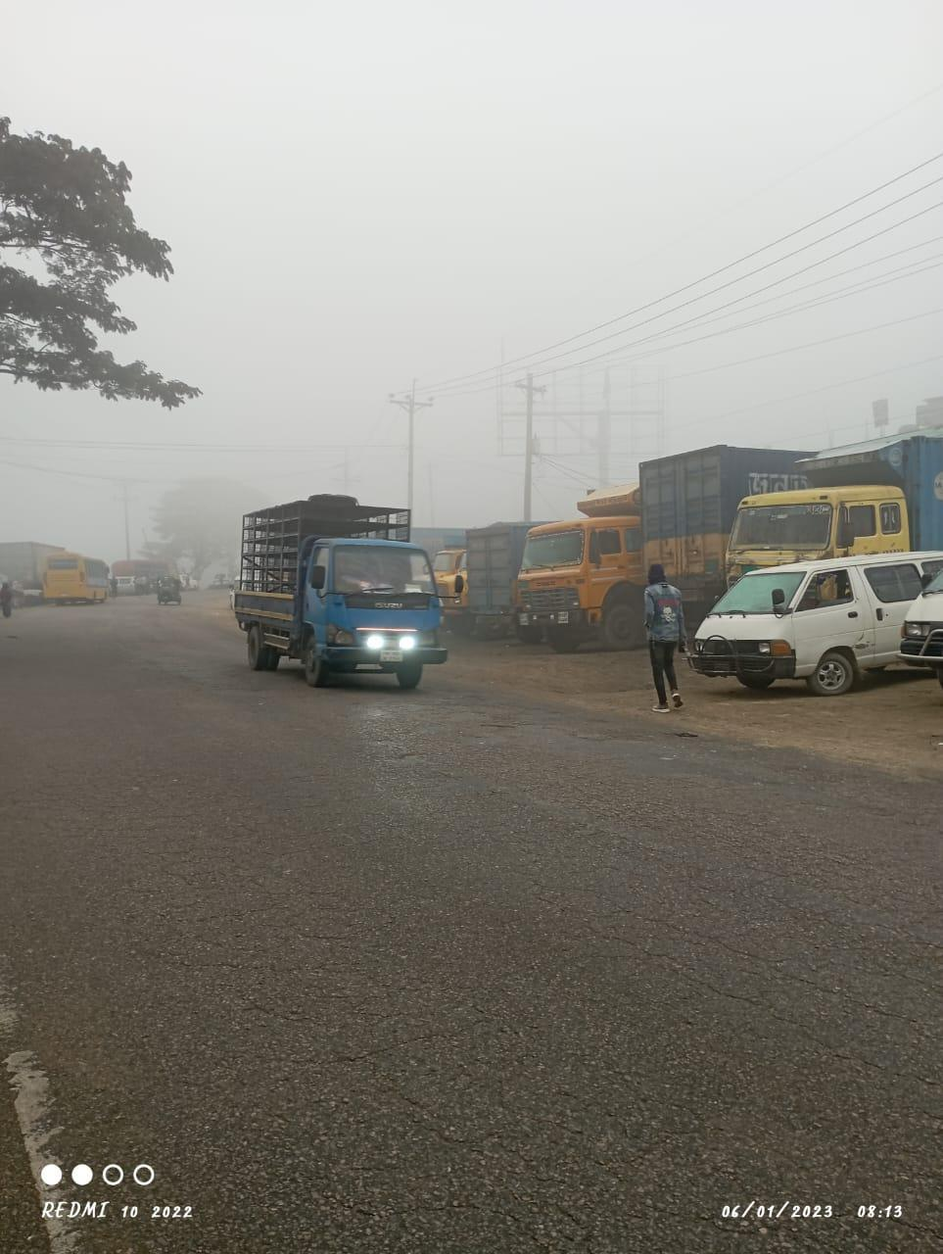Bus: (32, 546, 119, 612)
Car: (686, 543, 942, 692)
Truck: (228, 490, 452, 698), (726, 427, 943, 576), (625, 436, 774, 607), (502, 481, 638, 650)
